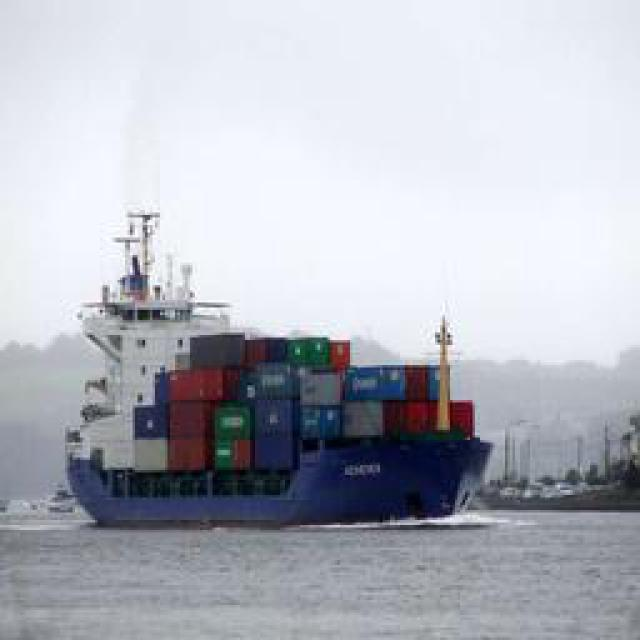Ship: (70, 203, 495, 528)
